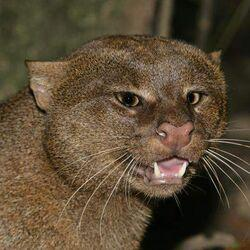Jaguarundi: (8, 32, 233, 234)
